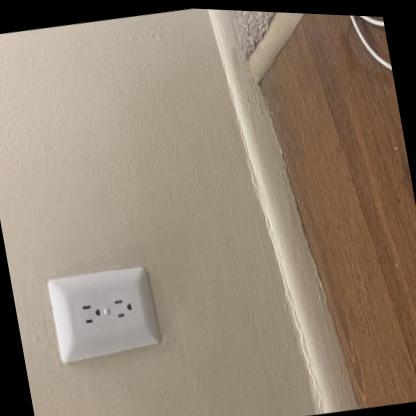OUTLET: (44, 259, 163, 369)
